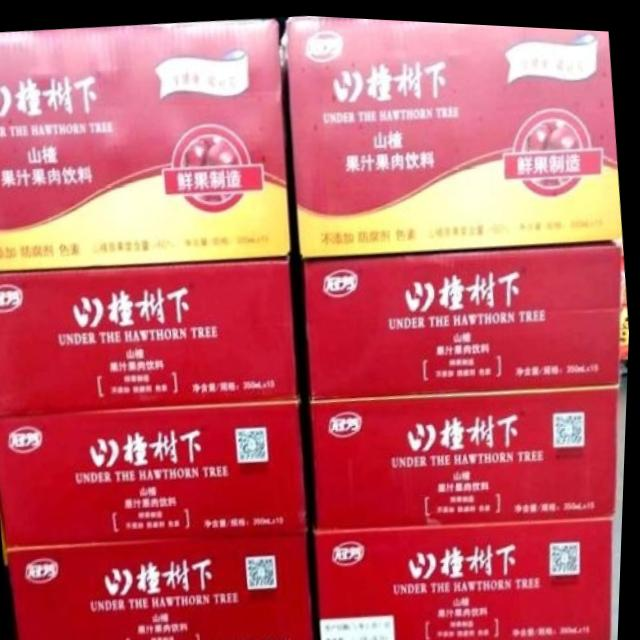box: (284, 12, 624, 254), (0, 16, 293, 270), (305, 238, 623, 396), (0, 256, 300, 416), (0, 397, 312, 547), (313, 378, 621, 526), (320, 512, 617, 640), (10, 532, 319, 640)
